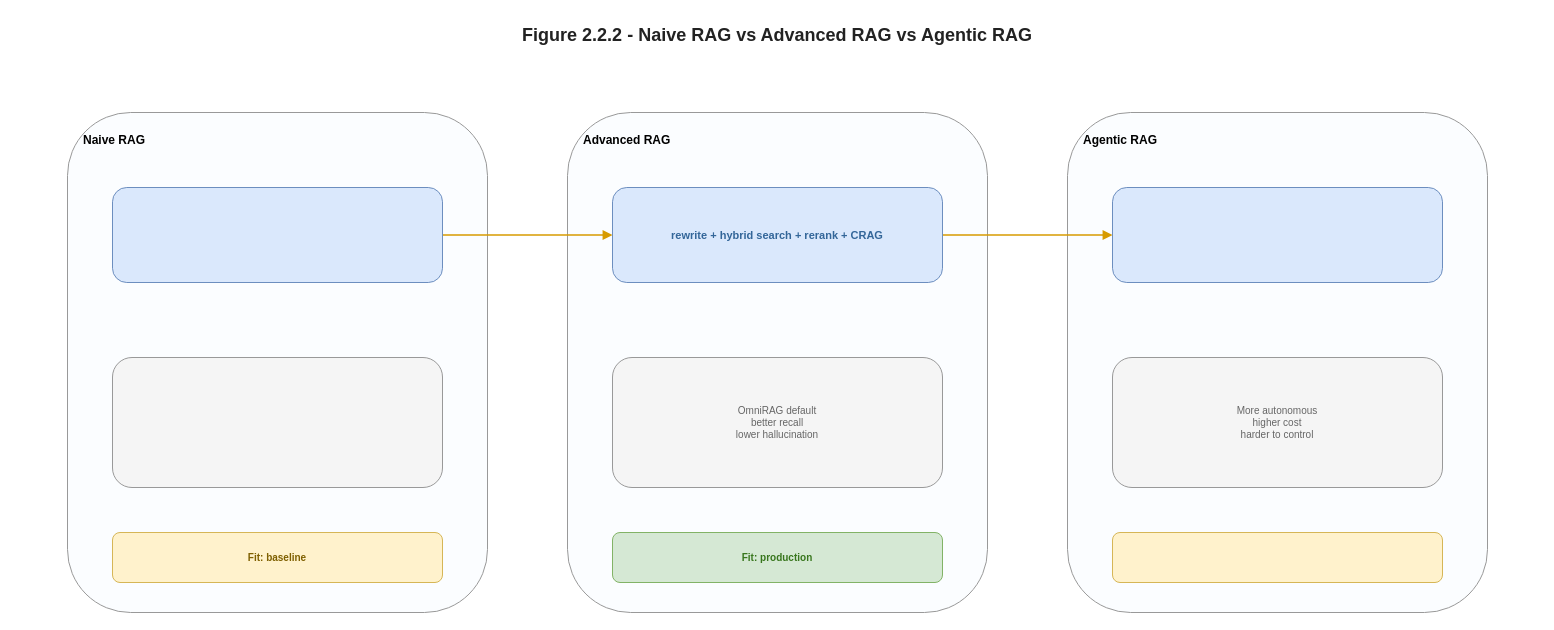
Some shapes in this 1554 by 630 pixel diagram are drawn without their labels. The centre of each missing label's shape, as x and y in pixels:
Fit: research/complex workflows: the point at 1277,557
planner -> tools -> retrieve -> reflect -> answer: the point at 1277,234
query -> vector search -> prompt -> answer: the point at 277,234
Simple but brittle weak reranking no correction: the point at 277,422
